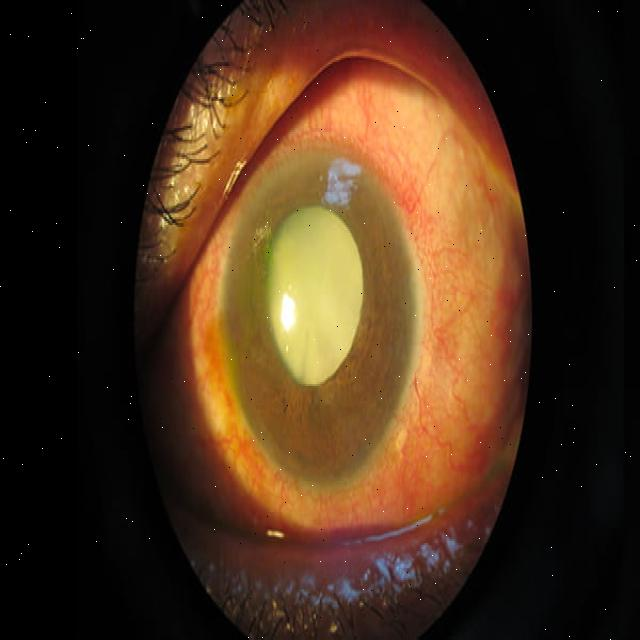Cataract: (217, 140, 421, 487)
